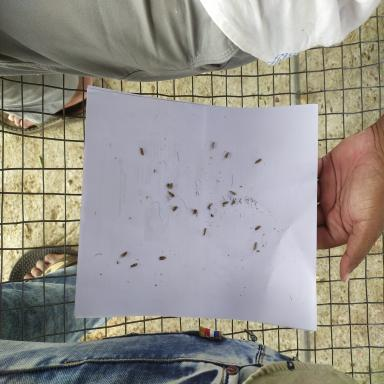pbw: (167, 190, 175, 200), (253, 158, 261, 164), (122, 250, 128, 258), (130, 263, 137, 269), (172, 206, 178, 212), (140, 147, 144, 156), (253, 242, 257, 250), (158, 256, 166, 260), (225, 152, 229, 159), (229, 191, 236, 195), (255, 225, 260, 230), (222, 201, 229, 204), (203, 228, 206, 235), (207, 204, 212, 208), (168, 182, 172, 187), (169, 185, 174, 189), (213, 142, 214, 148)
